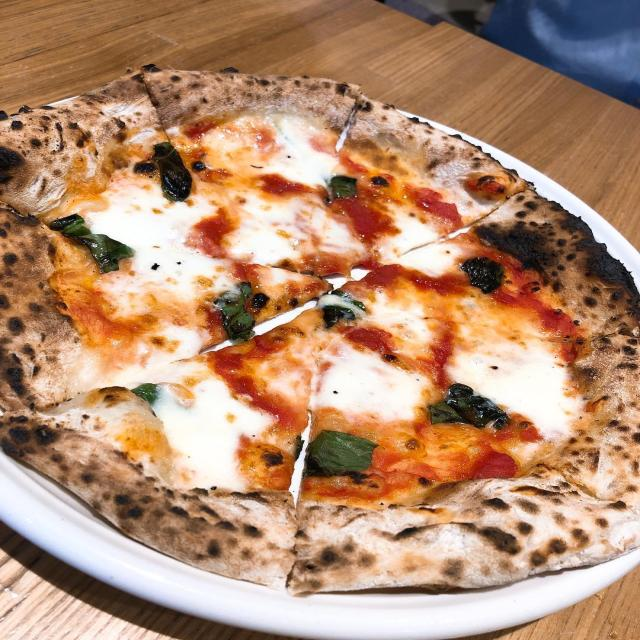basil: (47, 207, 137, 275), (428, 379, 513, 430), (303, 424, 379, 481), (143, 132, 197, 203), (210, 280, 260, 346), (461, 252, 506, 296), (322, 286, 366, 328), (128, 376, 163, 410), (327, 169, 360, 204)
pizza: (0, 60, 640, 597)
